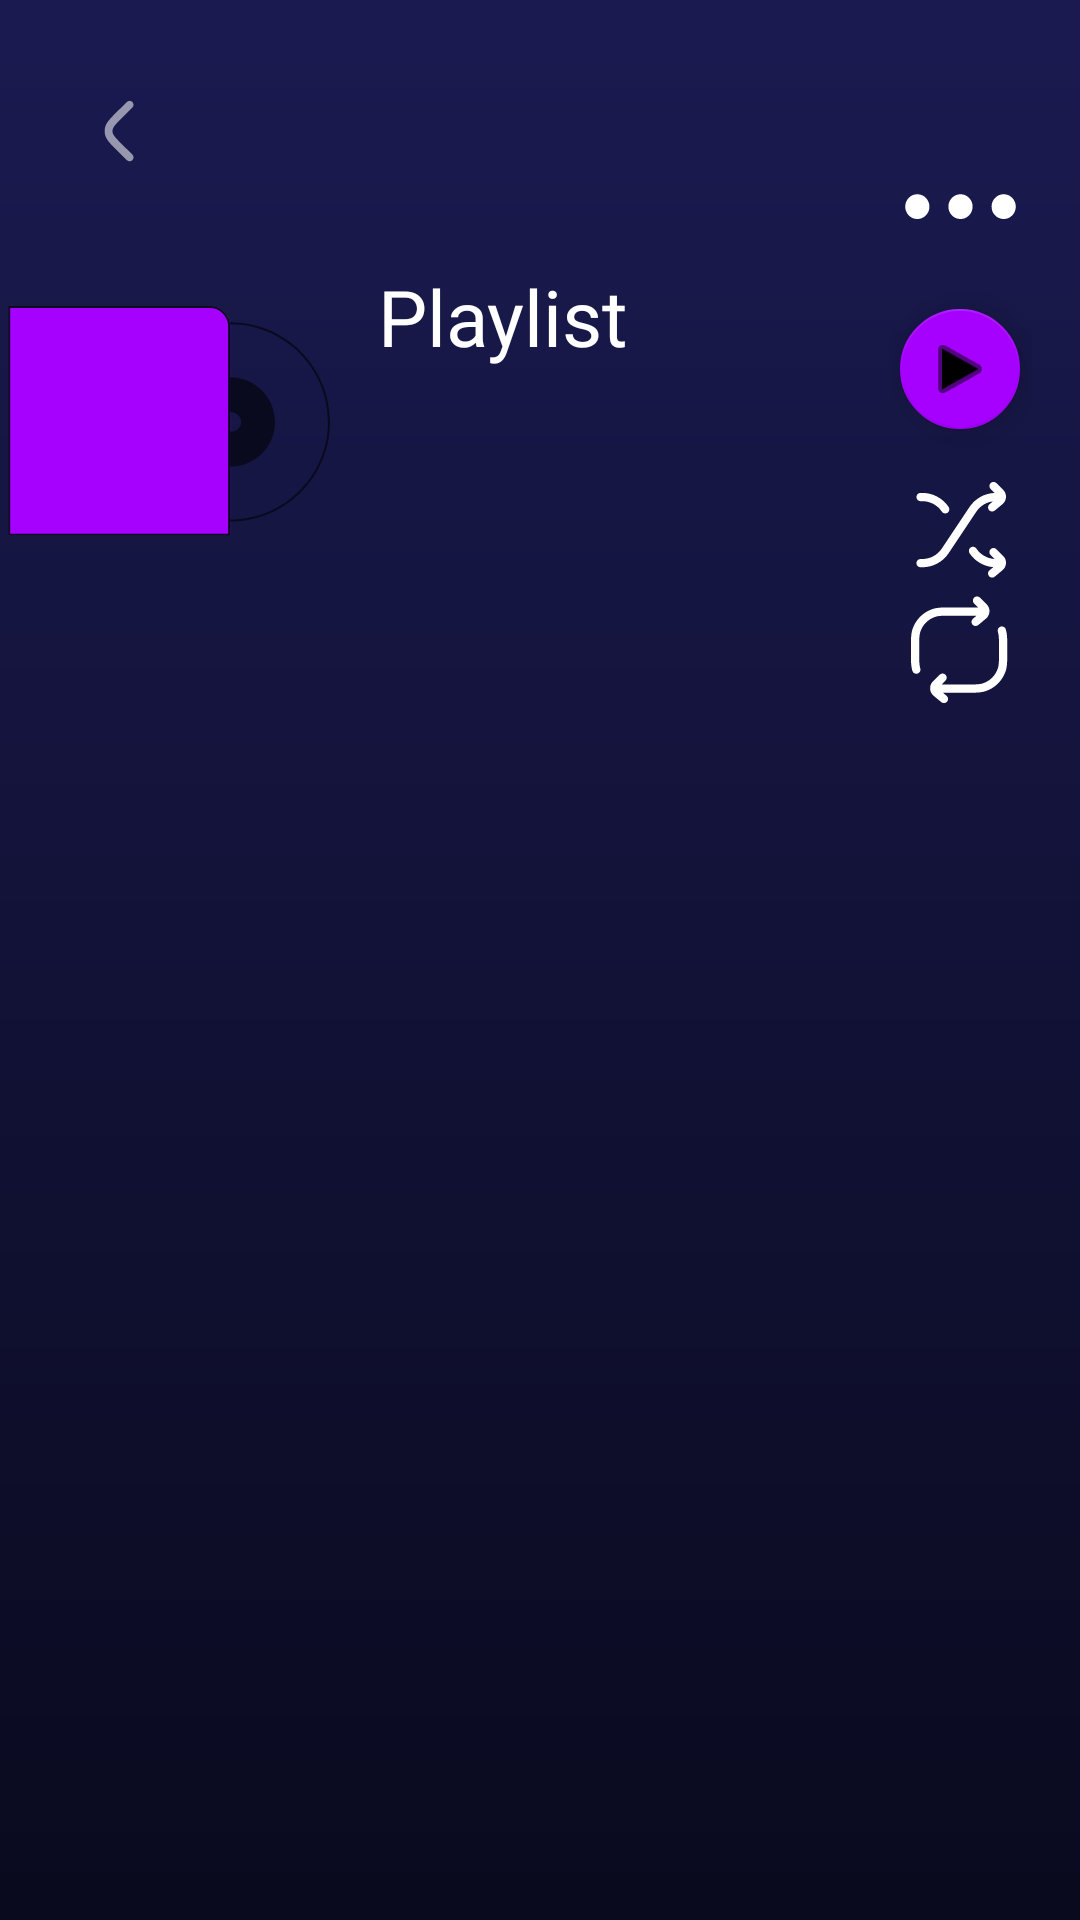

Icon bounding boxes for this 1080×1920 phone screenshot, format (x1,y1,x2,y2):
back: (104,101,134,162)
more: (905,194,1016,219)
repeate: (911,596,1008,703)
shuffle: (916,482,1006,578)
